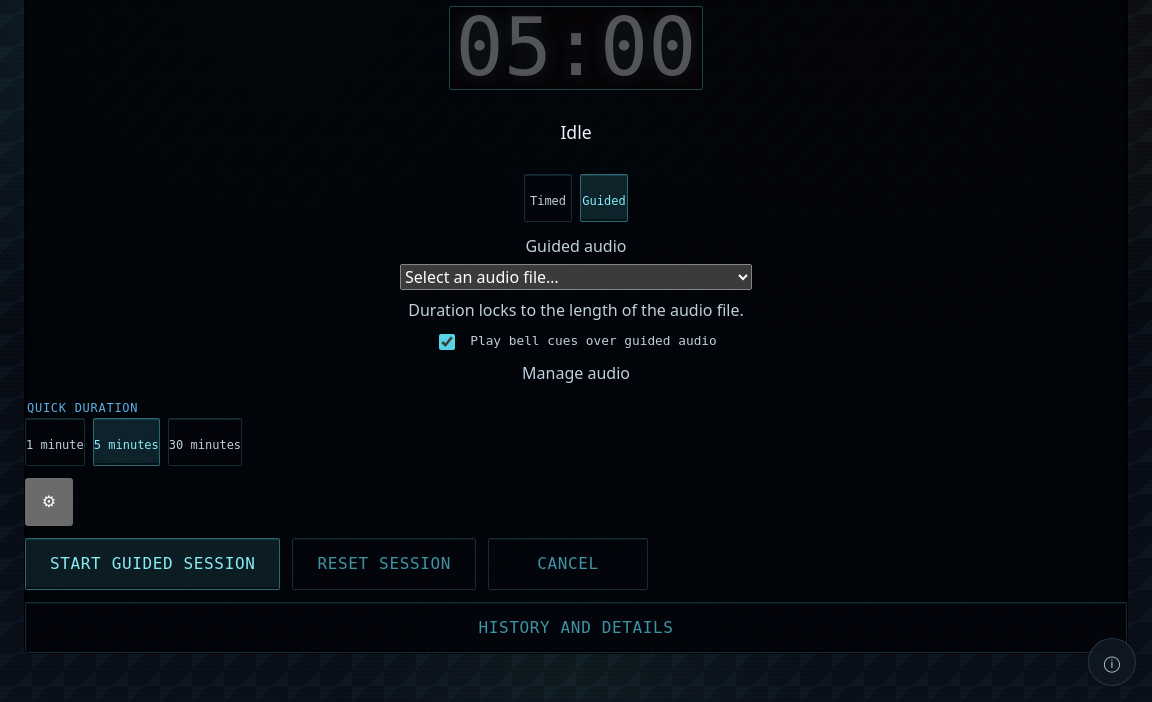
Test case: guided meditation timer › reports the session kind in session details and switches it with the mode toggle
(page scrolled)
Click the button with test id "timer-details-toggle": {"x": 576, "y": 627} [25,602,1127,653]
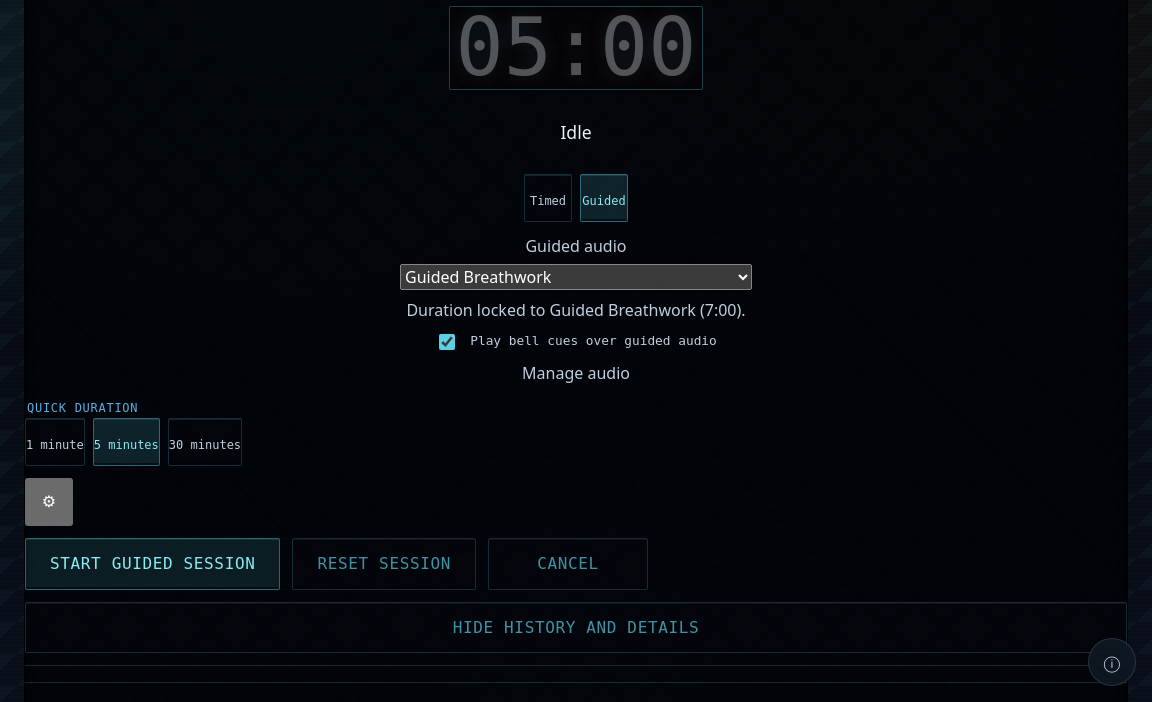
Click the button with test id "timer-mode-timed": {"x": 548, "y": 198} [524,174,572,222]
(page scrolled)
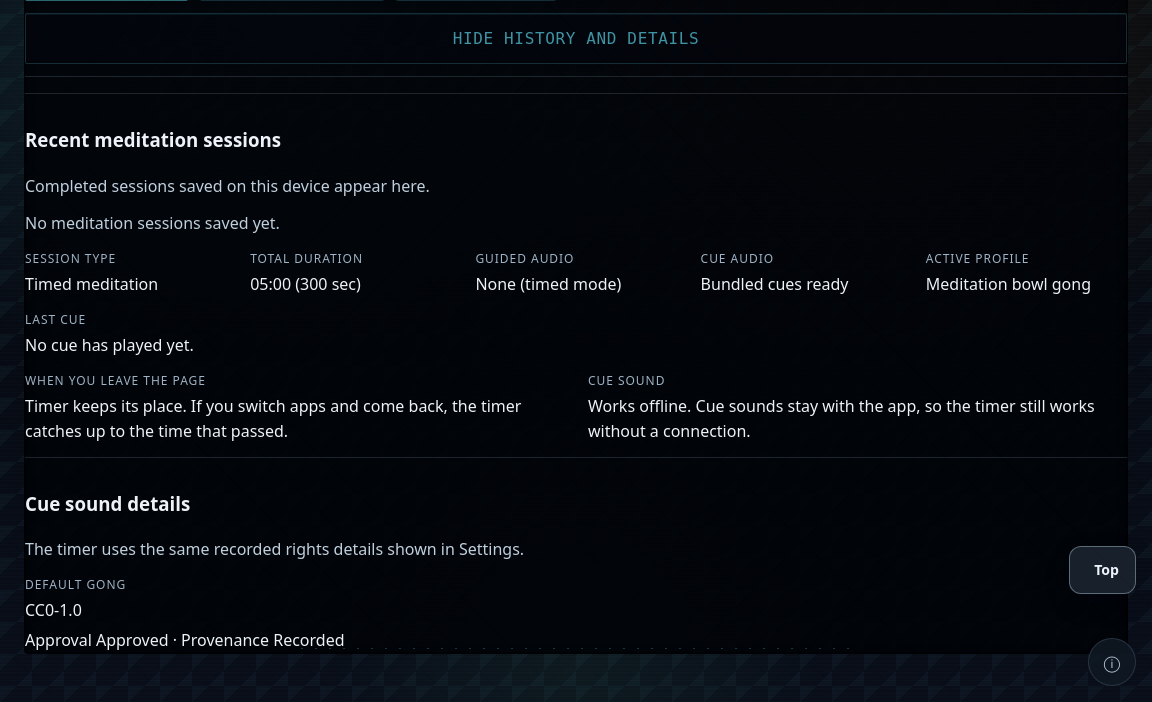
Now the text with test id "timer-session-kind" reads "Timed meditation", box [25,273,158,295]
